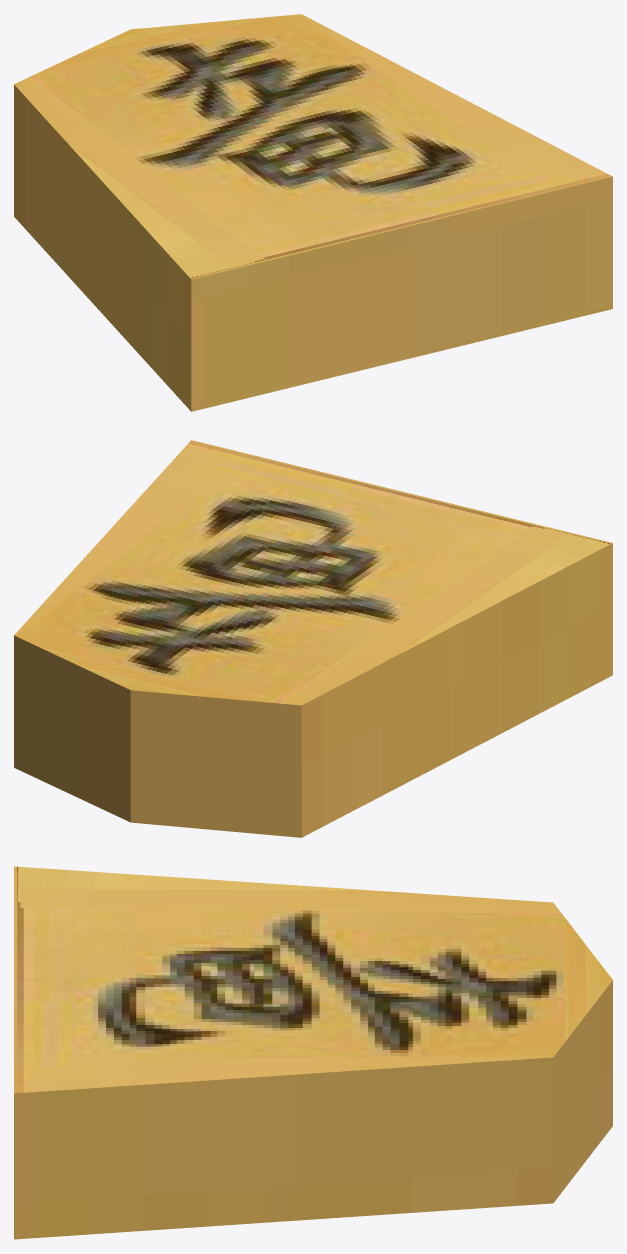
File: HISHA_01.fbx
The picture shows the model from 3 angles, top to bottom: view 1: azimuth 30°, elevation 25°; view 2: azimuth 150°, elevation 25°; view 3: azimuth 270°, elevation 25°; orthographic projection. The views are drawn at different scales.
Visible parts, largest first — view 1: Circle; view 2: Circle; view 3: Circle.
Boxes of the visible parts, x1=… form: Circle: x1=14, y1=14, x2=612, y2=411; Circle: x1=14, y1=440, x2=612, y2=837; Circle: x1=14, y1=866, x2=612, y2=1239.
Size of the model in its own units: 100 by 30 by 112.
